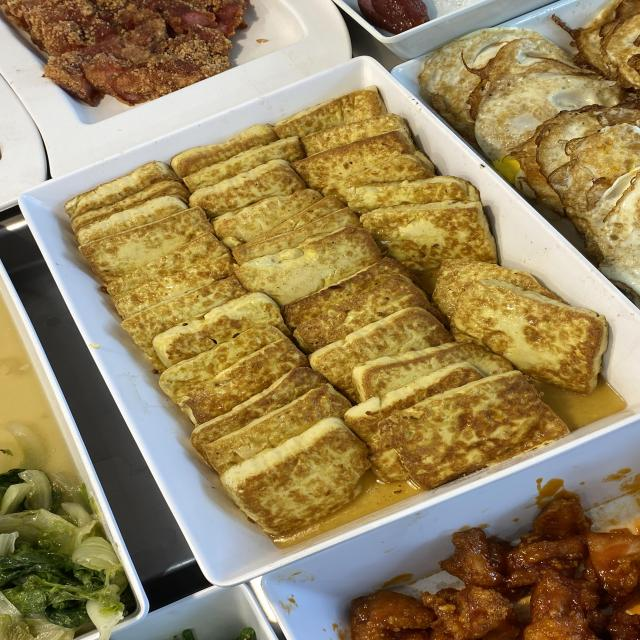Pan Fried Tofu: (173, 207, 480, 402)
